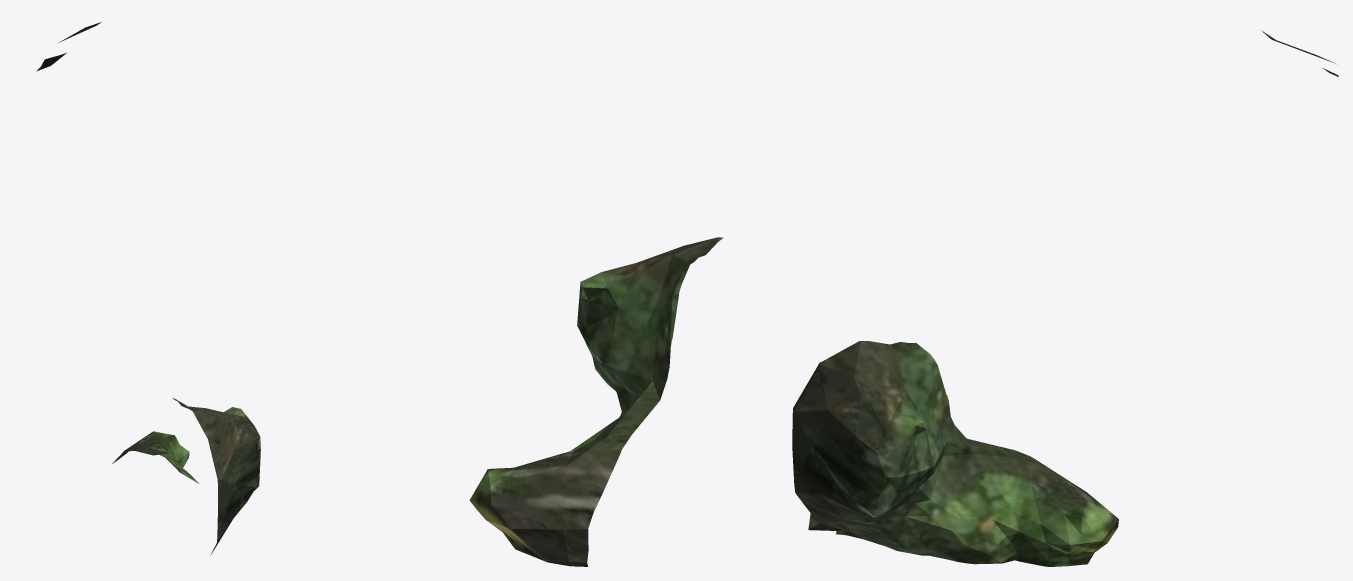
3 views of the same model, side by side, from view 1: azimuth 30°, elevation 25°; view 2: azimuth 150°, elevation 25°; view 3: azimuth 270°, elevation 25° (orthographic). The views are drawn at different scales.
Size of the model in its own units: 0.7473 by 2.95 by 2.81.
Materials: 1 (1 with a texture image).
